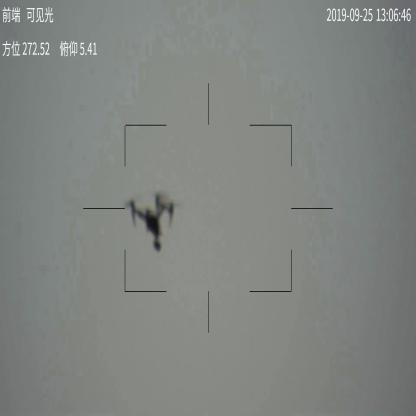uav: (122, 186, 178, 253)
